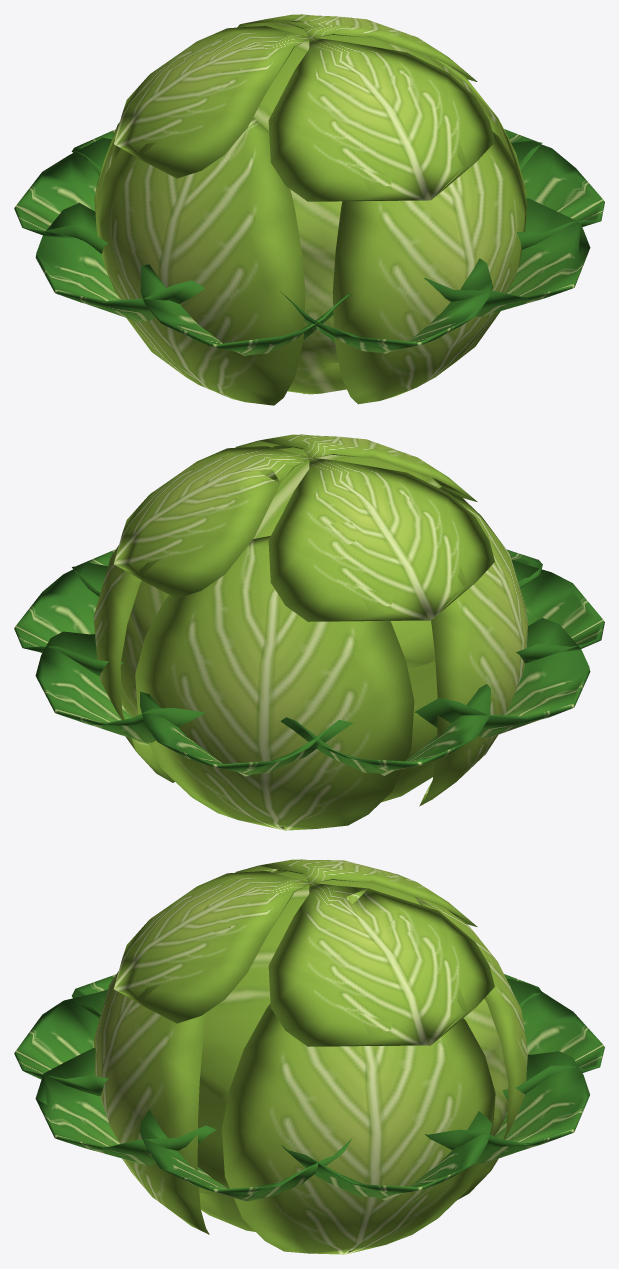
File: NP_Cabbage_Ready_LOD1.fbx
3 views of the same model, one above another, from view 1: azimuth 30°, elevation 25°; view 2: azimuth 150°, elevation 25°; view 3: azimuth 270°, elevation 25° (orthographic).
Parts seen in each view (by area): view 1: NP_Cabbage_Ready; view 2: NP_Cabbage_Ready; view 3: NP_Cabbage_Ready.
Boxes of the visible parts, x1=… form: NP_Cabbage_Ready: x1=14, y1=14, x2=604, y2=405; NP_Cabbage_Ready: x1=14, y1=434, x2=604, y2=830; NP_Cabbage_Ready: x1=14, y1=859, x2=604, y2=1254.
Bounding box in the file's own units: 80.24 × 52.43 × 80.51.
